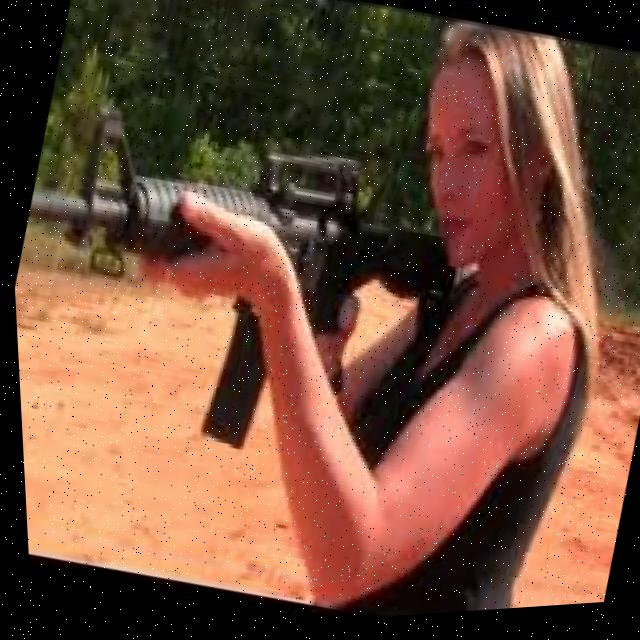firearm: (4, 76, 485, 505)
